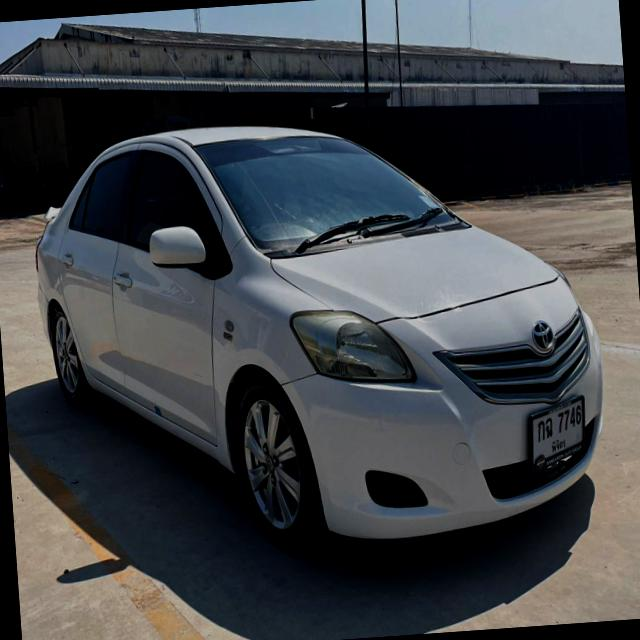license_plate: (522, 397, 592, 474)
